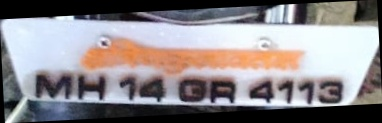character: (34, 72, 72, 100), (76, 73, 104, 101), (248, 80, 276, 106), (177, 78, 206, 103), (138, 77, 163, 103), (317, 80, 343, 105), (208, 79, 235, 103), (277, 78, 295, 105), (118, 75, 135, 102), (297, 80, 313, 107)
